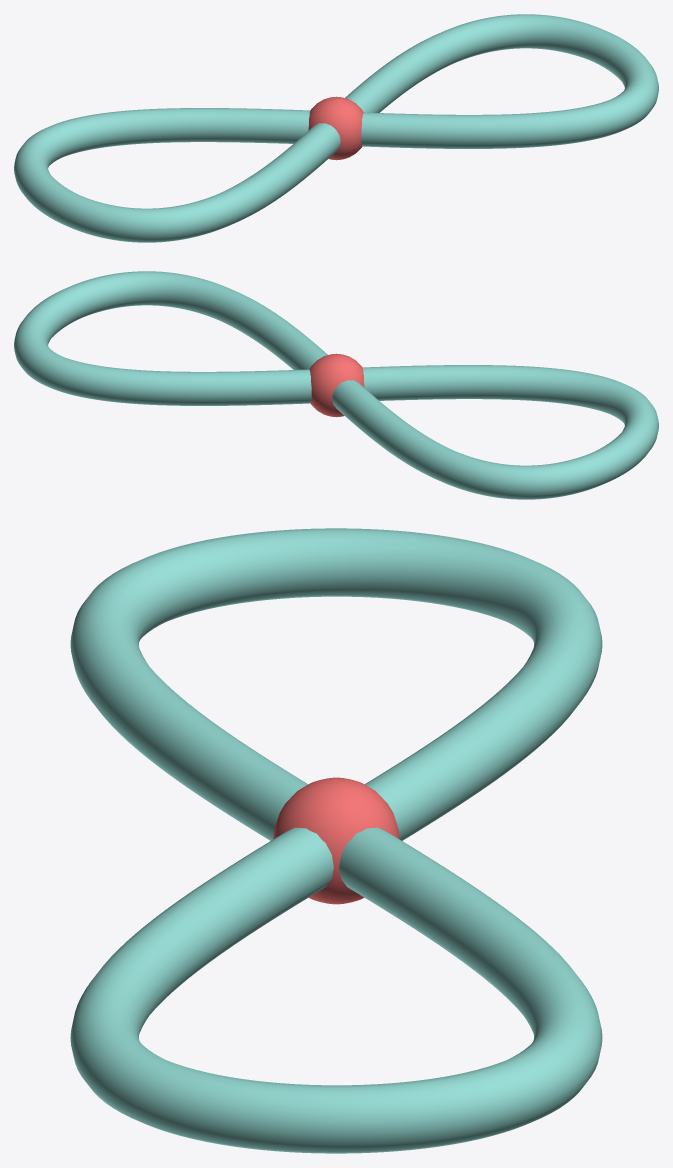
File: figure-eight.glb
3 renders of one model, top to bottom at view 1: azimuth 30°, elevation 25°; view 2: azimuth 150°, elevation 25°; view 3: azimuth 270°, elevation 25°, orthographic. The views are drawn at different scales.
Visible parts, largest first — view 1: FigureEight, Crossing; view 2: FigureEight, Crossing; view 3: FigureEight, Crossing.
Boxes of the visible parts, x1,y1,x2,y2 form: FigureEight: [14, 14, 658, 242]; Crossing: [308, 96, 363, 160]; FigureEight: [14, 271, 658, 499]; Crossing: [309, 353, 364, 417]; FigureEight: [70, 528, 602, 1153]; Crossing: [273, 777, 399, 904].
Size of the model in its own units: 2.84 by 0.26 by 1.09.
